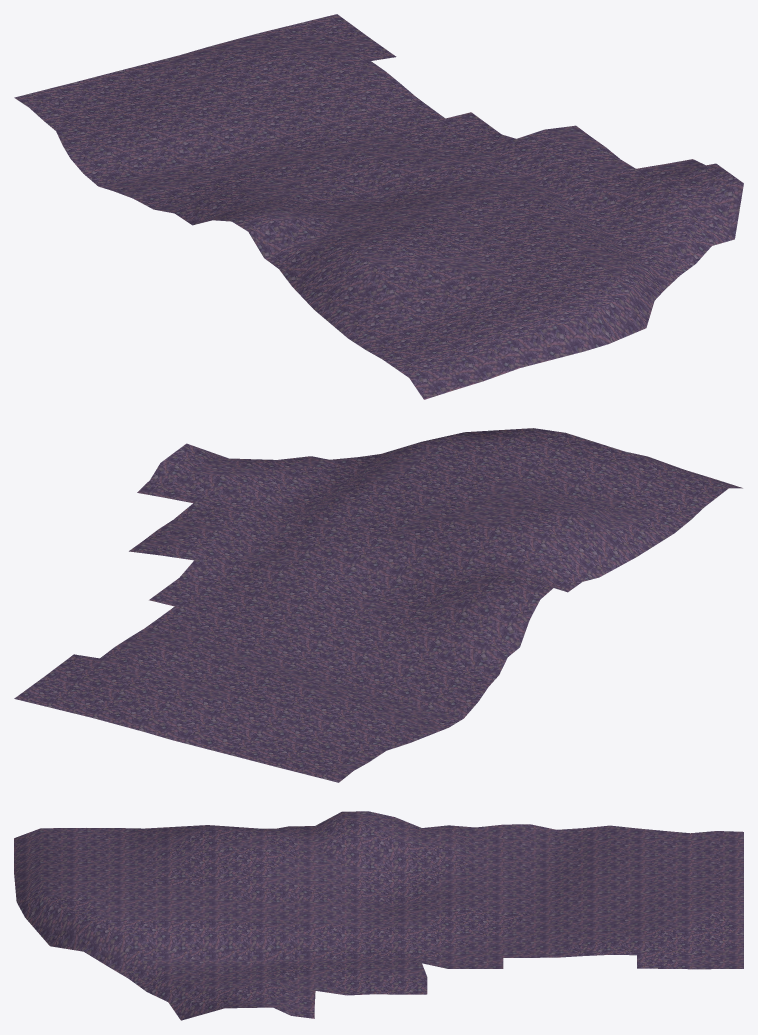
File: track_la_env_terrain_01.fbx
3 renders of one model, top to bottom at view 1: azimuth 30°, elevation 25°; view 2: azimuth 150°, elevation 25°; view 3: azimuth 270°, elevation 25°, orthographic. The views are drawn at different scales.
Parts seen in each view (by area): view 1: track_la_env_terrain_01; view 2: track_la_env_terrain_01; view 3: track_la_env_terrain_01.
Boxes of the visible parts, box(x1,y1,x2,y2) form: track_la_env_terrain_01: box(14, 14, 743, 399); track_la_env_terrain_01: box(14, 428, 742, 782); track_la_env_terrain_01: box(14, 811, 743, 1020).
Size of the model in its own units: 914 by 87.09 by 1397.
